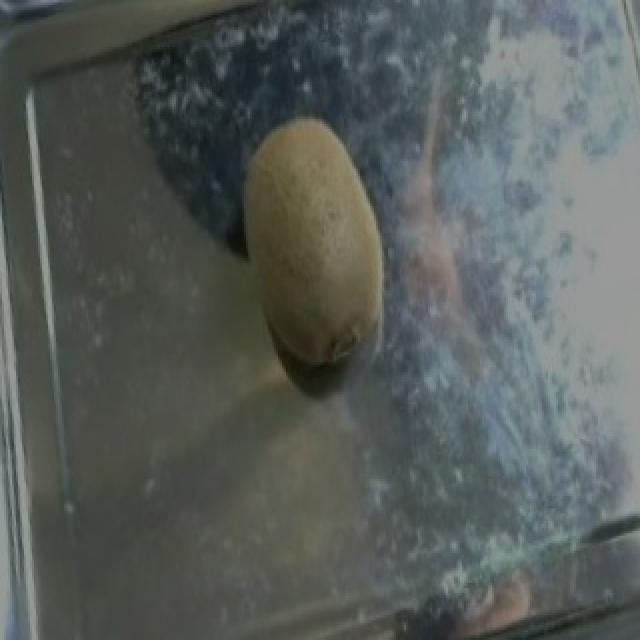Fruit: (204, 97, 430, 399)
